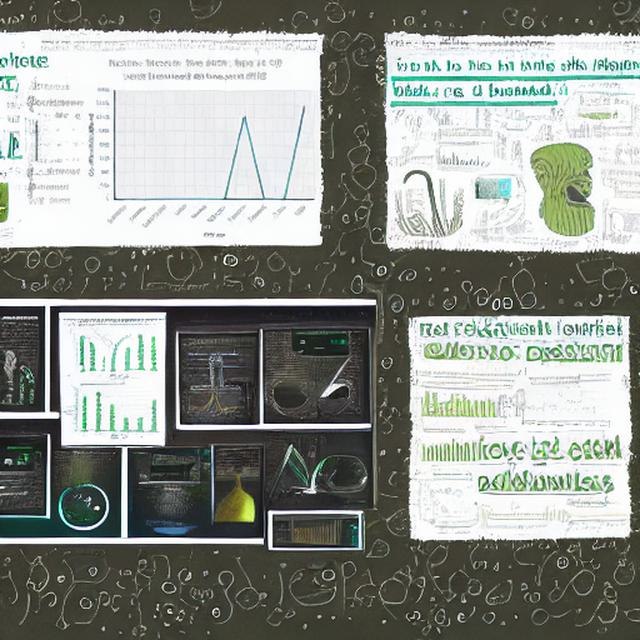Graph: (84, 53, 317, 241), (62, 381, 163, 440), (514, 382, 599, 430), (179, 383, 248, 425), (559, 501, 626, 535), (417, 430, 477, 465), (433, 142, 490, 175), (286, 513, 338, 548)
